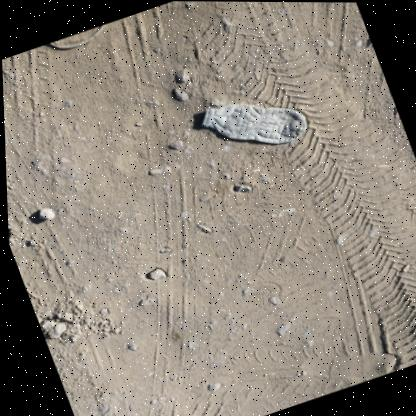Plastic: (201, 103, 306, 143), (50, 24, 106, 48)
Waste: (376, 164, 389, 167)
